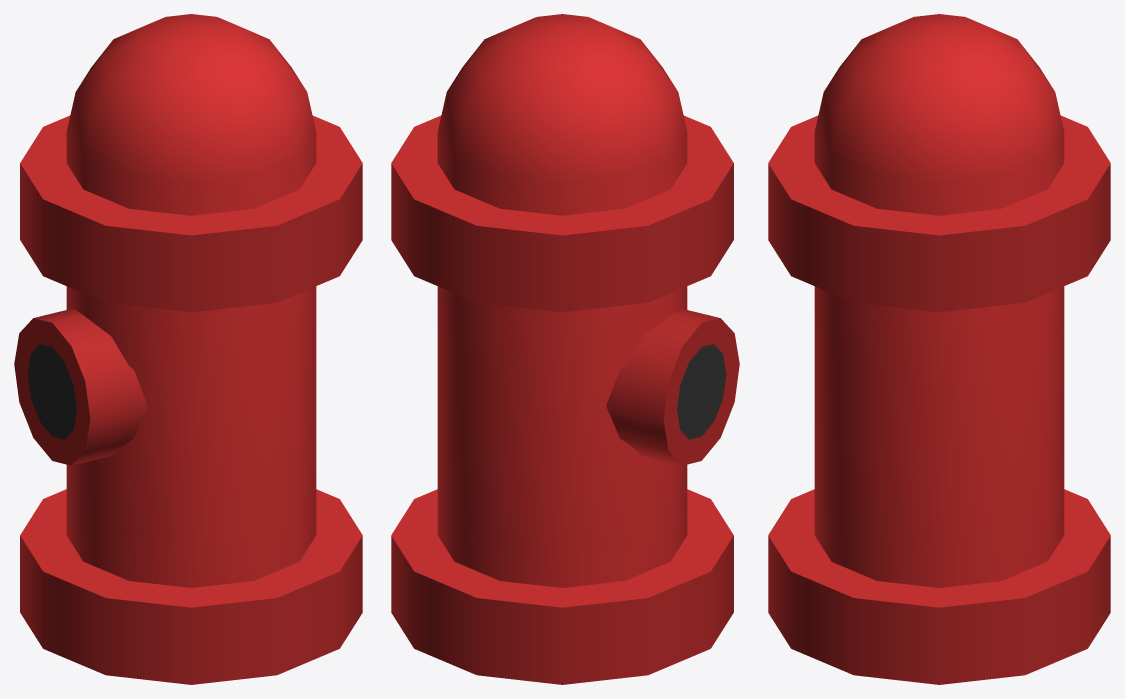
File: Gidrant1.fbx
3 renders of one model, left to right at view 1: azimuth 30°, elevation 25°; view 2: azimuth 150°, elevation 25°; view 3: azimuth 270°, elevation 25°, orthographic.
Parts seen in each view (by area): view 1: Gidrant1, Gidrant1 kusok, Gidrant1 Root; view 2: Gidrant1, Gidrant1 kusok, Gidrant1 Root; view 3: Gidrant1, Gidrant1 kusok, Gidrant1 Root.
Part boxes in pixels (<box>): Gidrant1: <box>14,14,362,684</box>; Gidrant1 kusok: <box>66,132,316,540</box>; Gidrant1 Root: <box>66,485,316,587</box>; Gidrant1: <box>391,14,739,684</box>; Gidrant1 kusok: <box>437,133,687,539</box>; Gidrant1 Root: <box>437,475,687,587</box>; Gidrant1: <box>768,14,1110,684</box>; Gidrant1 kusok: <box>814,133,1064,524</box>; Gidrant1 Root: <box>814,483,1064,587</box>.
Bounding box in the file's own units: 0.4863 × 0.9157 × 0.4863.
1 material, 1 textured.
